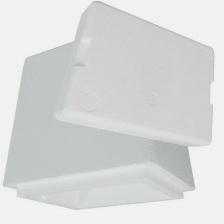foam_box: (0, 0, 220, 213)
